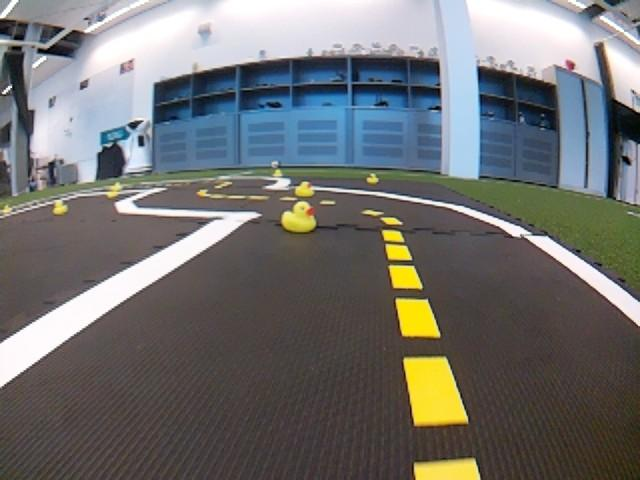Duckies: (281, 202, 315, 232), (295, 182, 316, 196), (53, 202, 68, 215), (366, 174, 378, 184), (105, 191, 119, 199), (2, 205, 13, 214), (113, 183, 124, 190), (273, 170, 282, 176)
